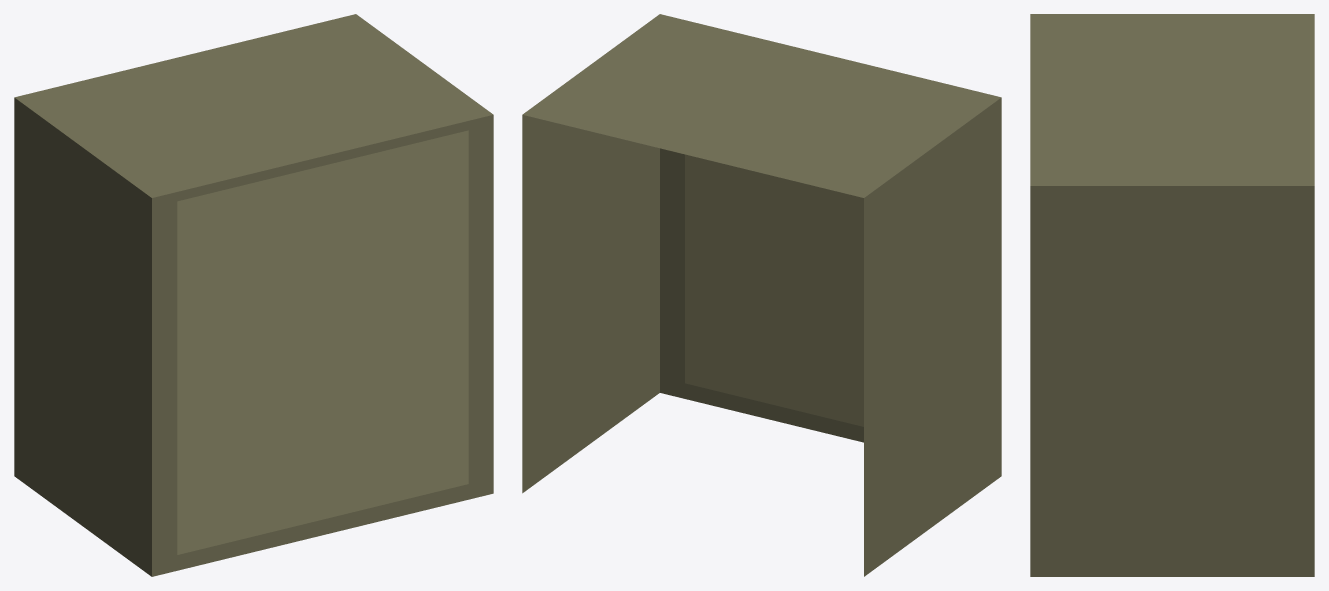
File: MSH_QuestObject_locker_04.fbx
3 renders of one model, left to right at view 1: azimuth 30°, elevation 25°; view 2: azimuth 150°, elevation 25°; view 3: azimuth 270°, elevation 25°, orthographic. The views are drawn at different scales.
Parts seen in each view (by area): view 1: MSH_QuestObject_locker_04; view 2: MSH_QuestObject_locker_04; view 3: MSH_QuestObject_locker_04.
Part boxes in pixels (x1,y1,x2,y2): MSH_QuestObject_locker_04: (14, 14, 493, 576); MSH_QuestObject_locker_04: (522, 14, 1001, 576); MSH_QuestObject_locker_04: (1030, 14, 1314, 576).
Size of the model in its own units: 1.99 by 2.11 by 1.39.
